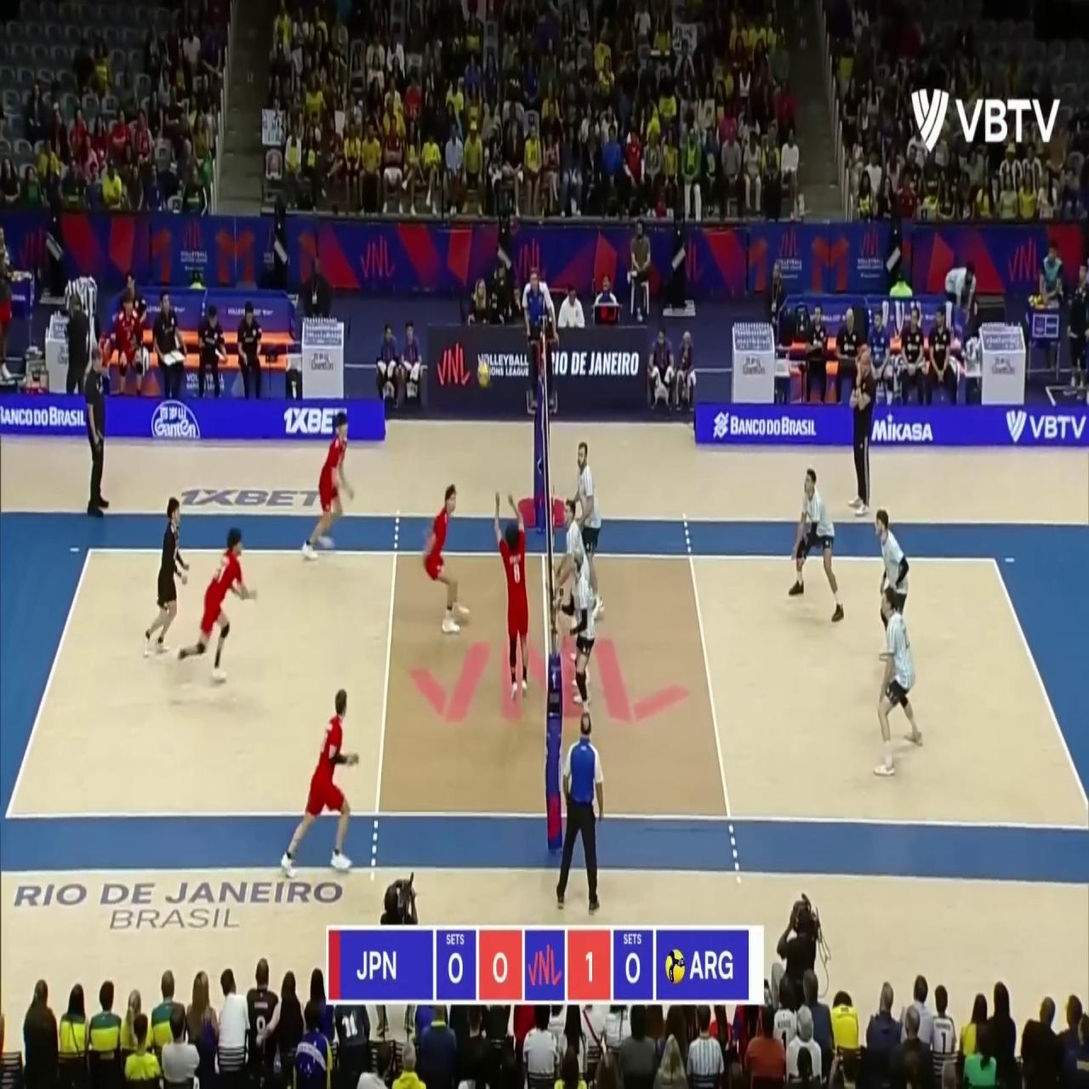ball: (478, 362, 490, 387)
